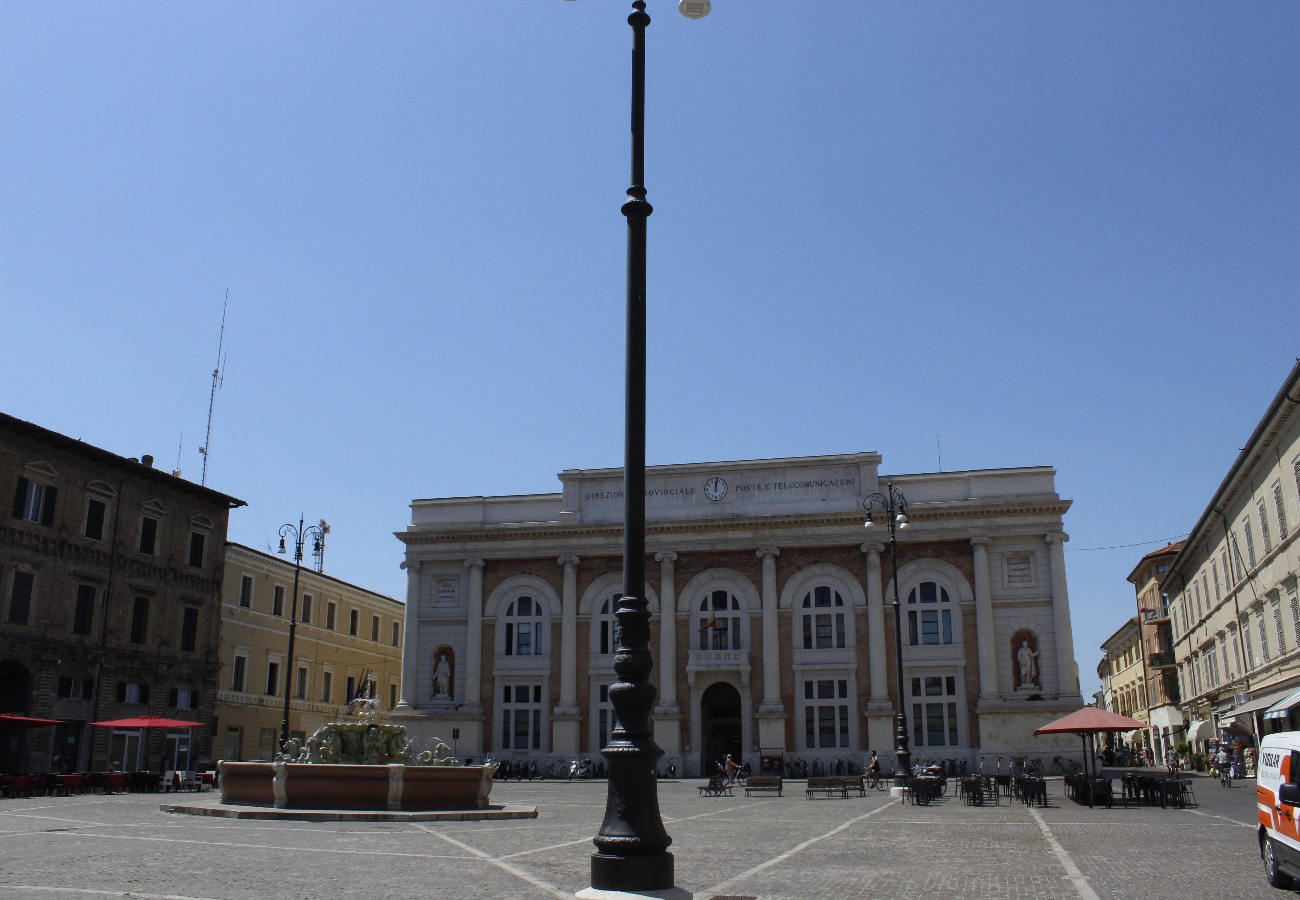Fontana Piazza del Popolo: (313, 723, 405, 771)
Palazzo delle Poste: (406, 476, 1068, 781)
